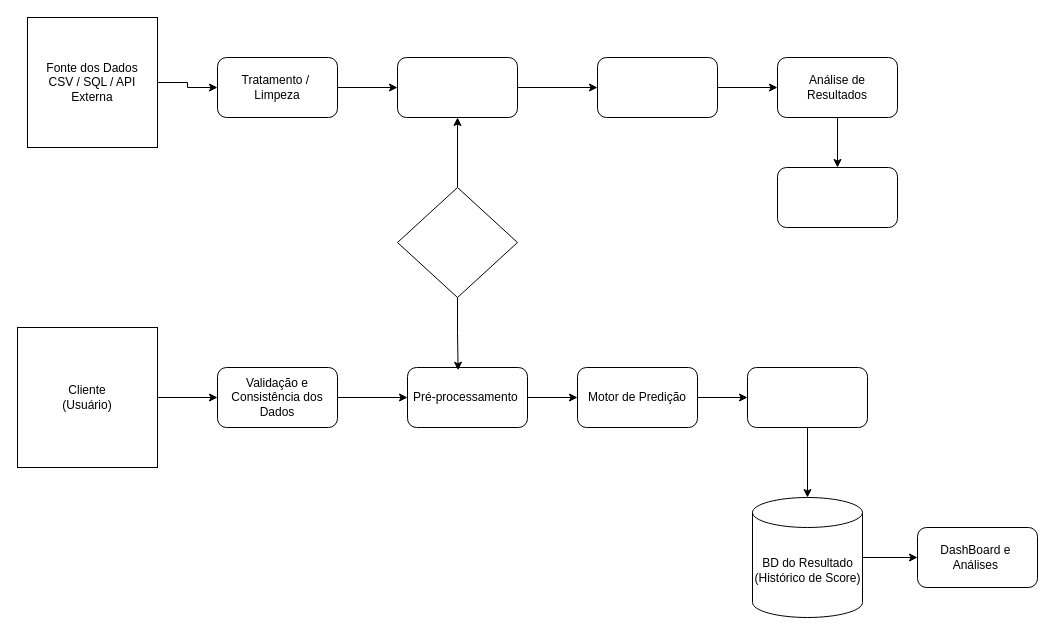
Image size: 1055x635. Some labels were removed from this diagram. Each missing label, with the box of its shape:
Algoritmo ML: (596, 56, 718, 118)
Identificação e Escolha de Features: (396, 56, 518, 118)
Normalização (Feature Store): (396, 186, 518, 298)
Pós-processamento: (746, 366, 868, 428)
Validação do Modelo: (776, 166, 898, 228)
